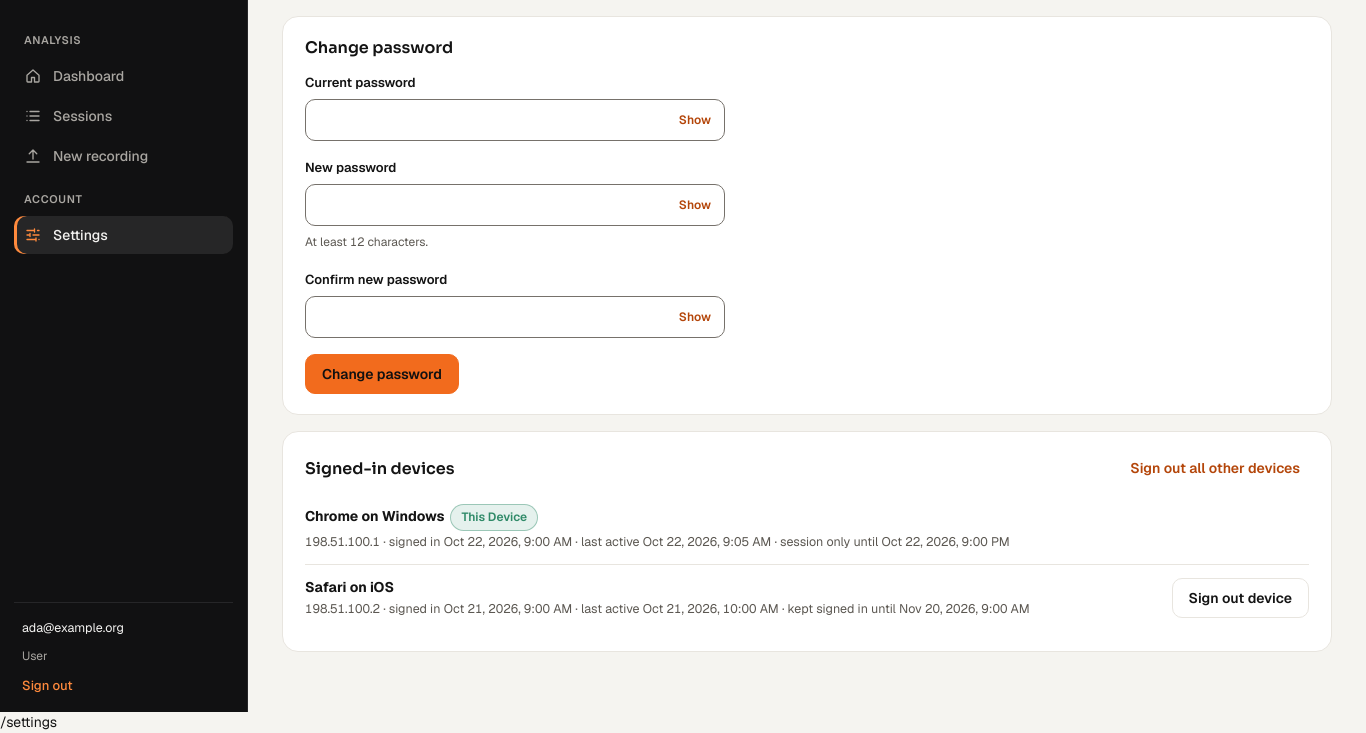
Test: security page › lists devices and signs out another one after confirmation
This screenshot has width=1366, height=733.
(page scrolled)
Expected: the text "Chrome on Windows" is shown, x1=305 y1=507 x2=444 y2=525
Expected: the text "Safari on iOS" is shown, x1=305 y1=578 x2=394 y2=596
Click the button "Sign out device" at [1240, 598], box x1=1172 y1=578 x2=1309 y2=618
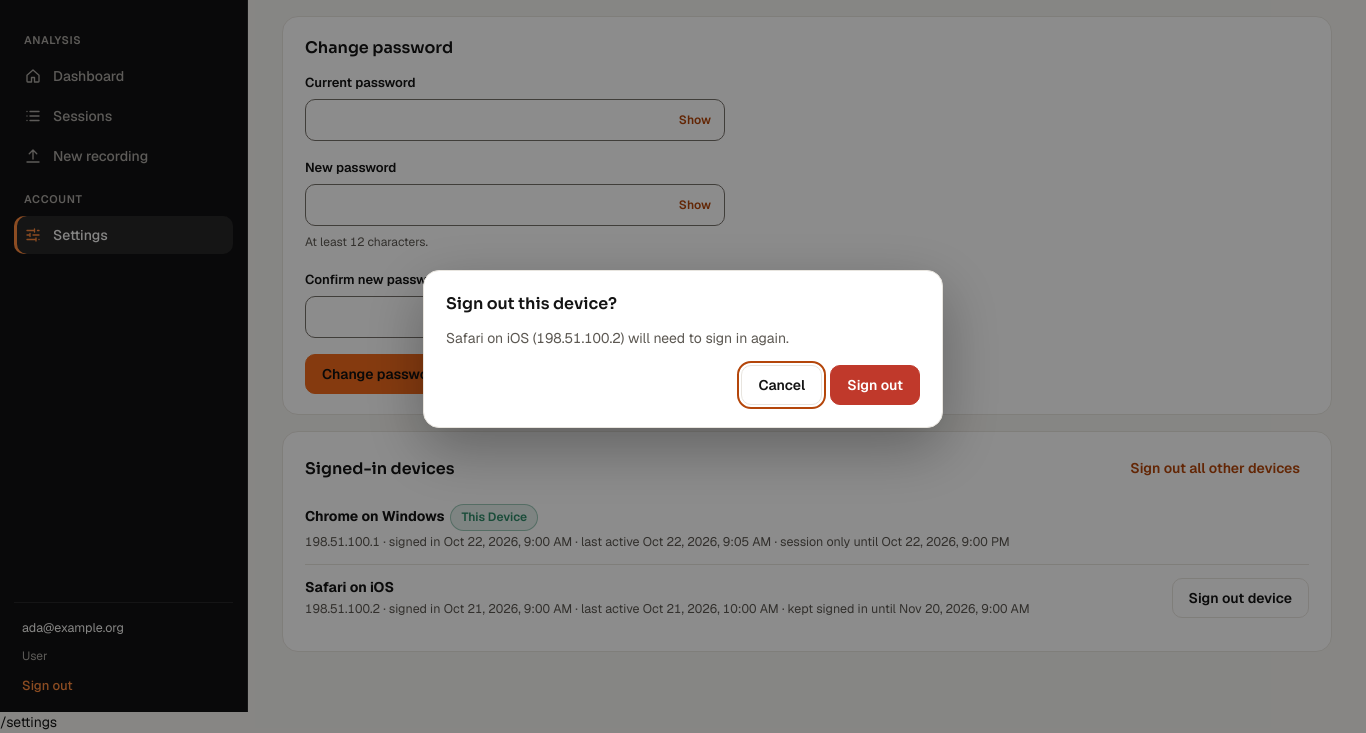
Click the button "Sign out" at [875, 385], box x1=830 y1=365 x2=920 y2=405
(page scrolled)
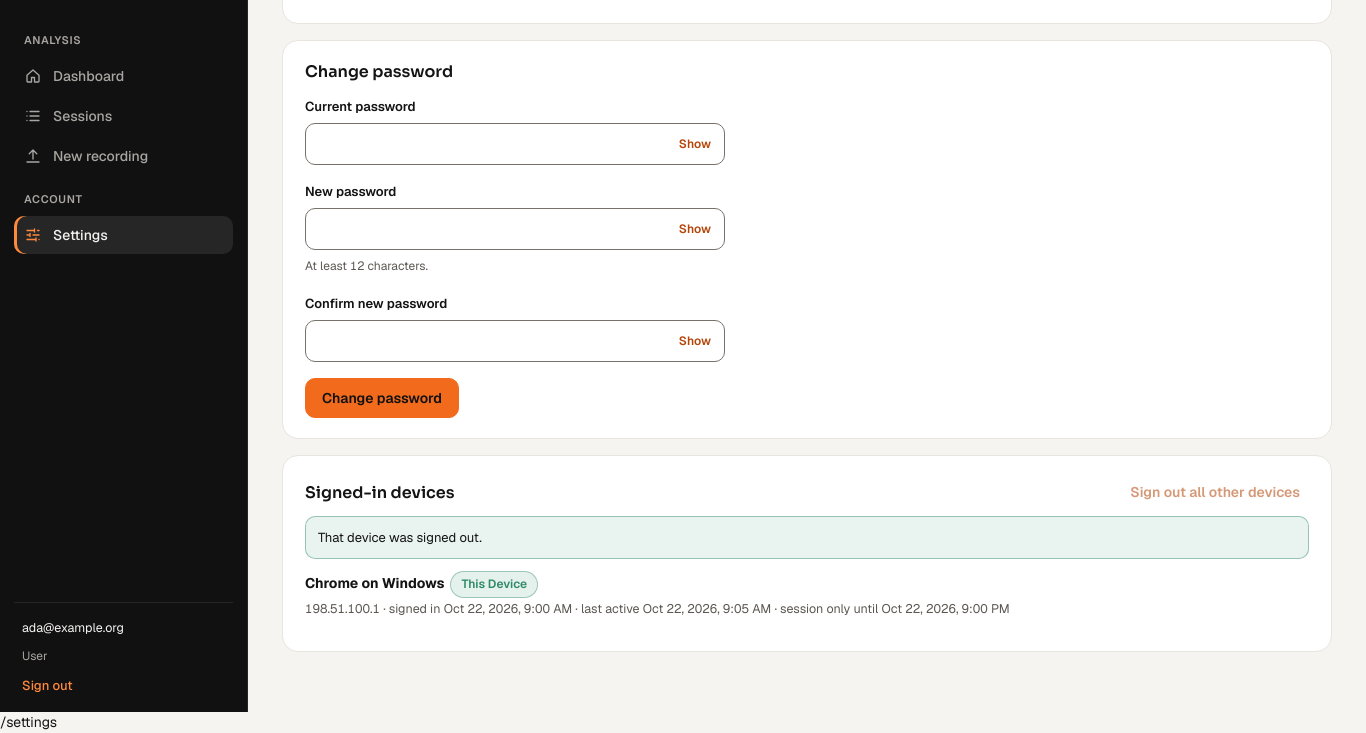
Expected: the text "That device was signed out." is shown, x1=305 y1=516 x2=1309 y2=559
Expected: the text "Safari on iOS" is gone
